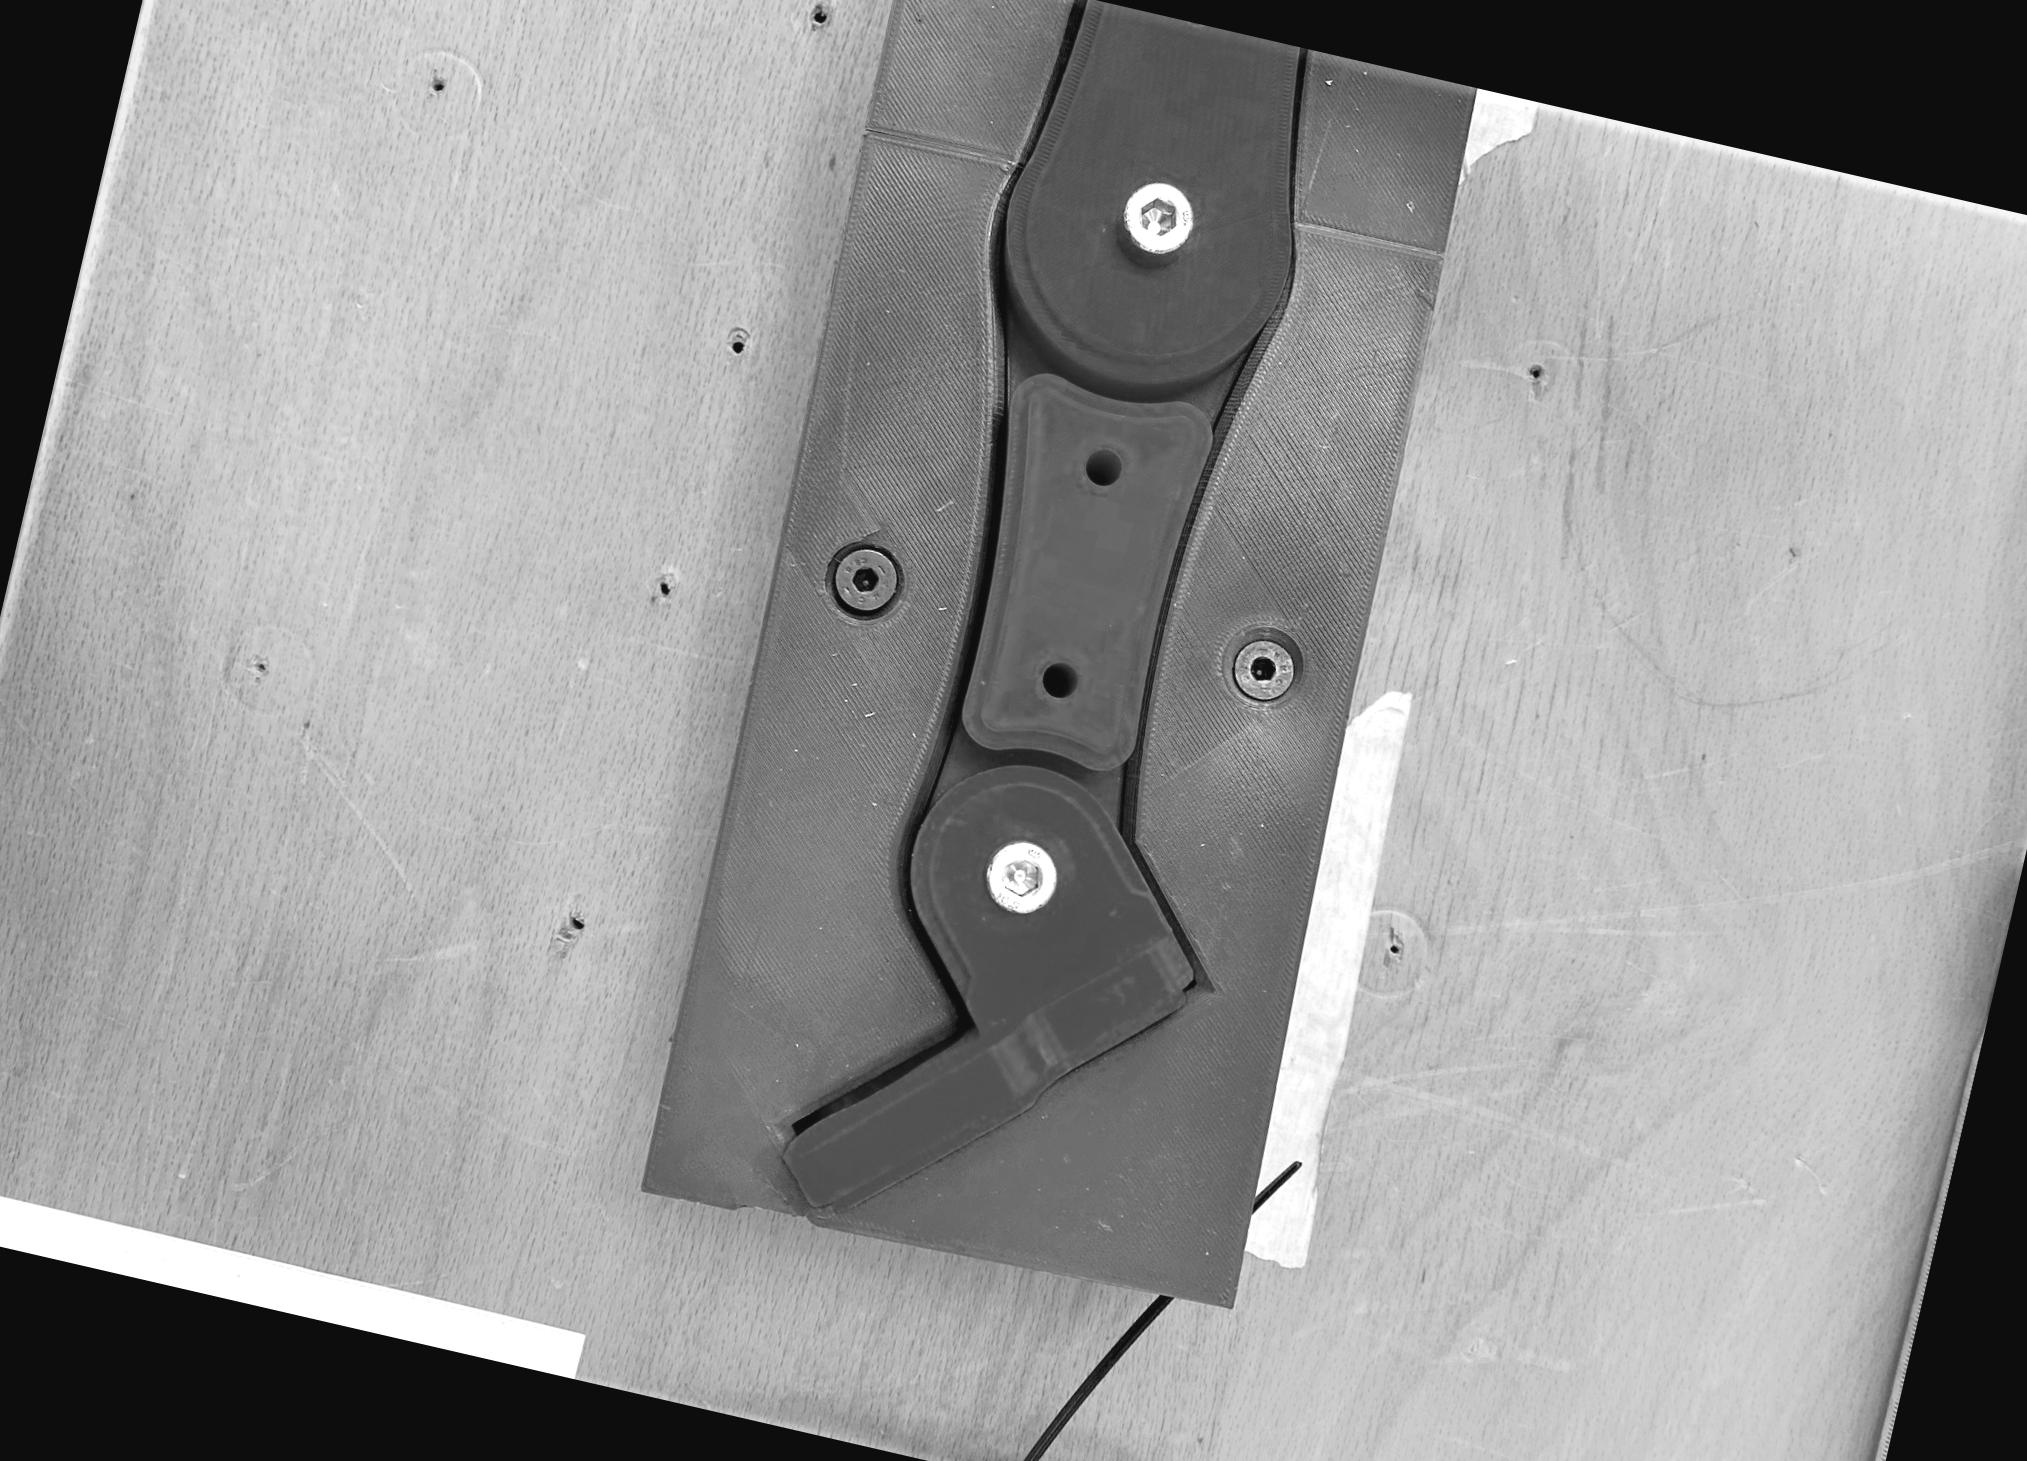screw: (977, 831, 1062, 919), (1116, 175, 1199, 260), (826, 540, 903, 619), (1226, 631, 1300, 704)
